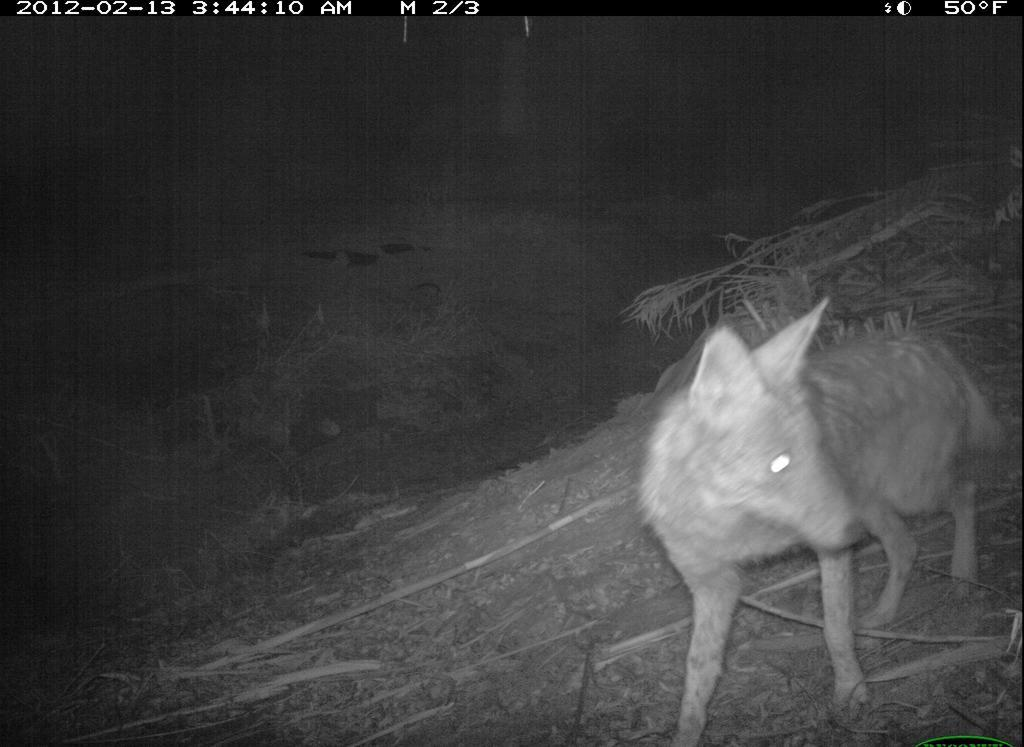coyote: (635, 292, 991, 720)
